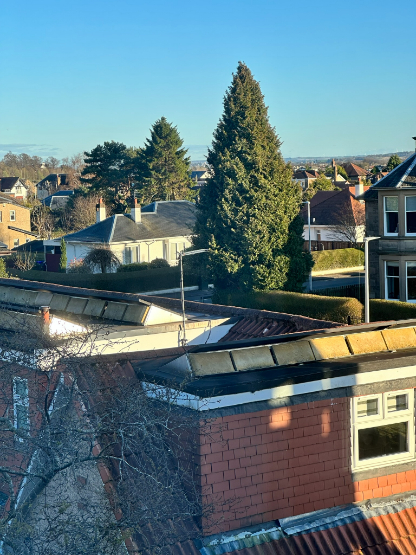tree: (192, 58, 335, 296), (137, 109, 202, 202), (72, 126, 137, 208)
